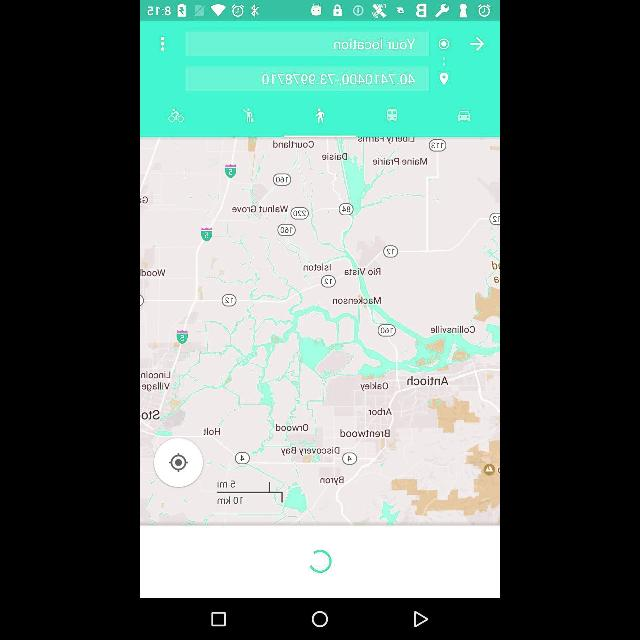icon: (438, 38, 449, 86), (310, 552, 330, 572), (168, 452, 186, 474), (312, 611, 328, 627), (168, 109, 184, 123), (414, 611, 428, 627), (470, 37, 484, 51), (212, 612, 226, 626), (386, 108, 398, 122), (242, 108, 254, 122), (458, 111, 470, 123), (160, 36, 167, 52), (316, 109, 324, 123)
input: (185, 66, 429, 92), (185, 32, 429, 56)
map: (140, 137, 500, 525)
multitab: (140, 94, 500, 136)
panel: (140, 598, 500, 640)
text: (260, 72, 414, 88), (334, 36, 414, 54)
toolbar: (140, 21, 500, 95)
uppertaskbar: (140, 1, 500, 21)
